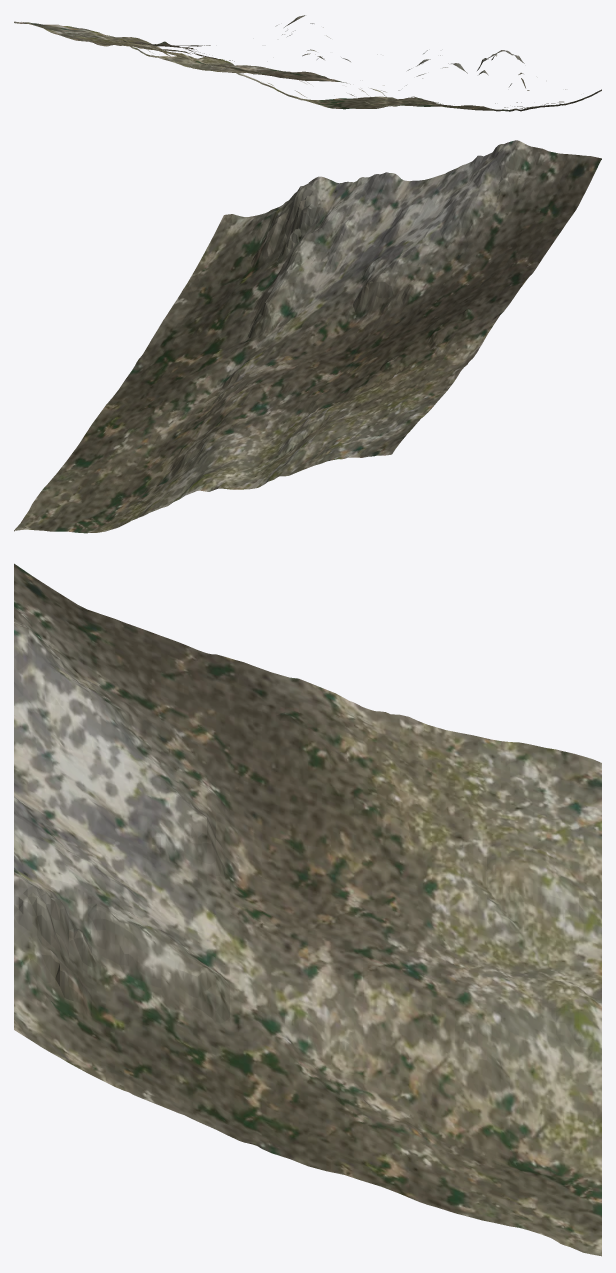
3 views of the same model, one above another, from view 1: azimuth 30°, elevation 25°; view 2: azimuth 150°, elevation 25°; view 3: azimuth 270°, elevation 25° (orthographic). The views are drawn at different scales.
Size of the model in its own units: 250 by 197 by 241.
1 material, 1 textured.
